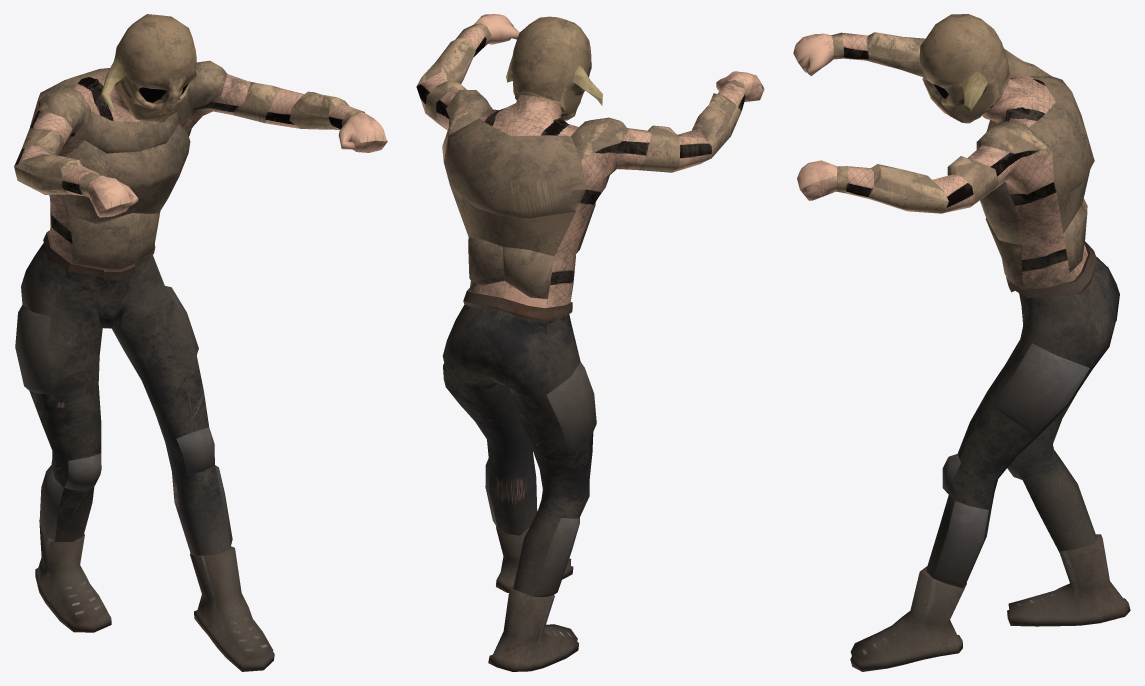
The model's file is Anim_ataque_d3_npc1.0047.obj.
The picture shows the model from 3 angles, left to right: view 1: azimuth 30°, elevation 25°; view 2: azimuth 150°, elevation 25°; view 3: azimuth 270°, elevation 25°; orthographic projection. The views are drawn at different scales.
Parts seen in each view (by area): view 1: NPC2; view 2: NPC2; view 3: NPC2.
Part boxes in pixels (x1,y1,x2,y2): NPC2: (14, 14, 387, 671); NPC2: (416, 14, 764, 671); NPC2: (793, 14, 1130, 671).
Size of the model in its own units: 4.67 by 9.07 by 4.45.
